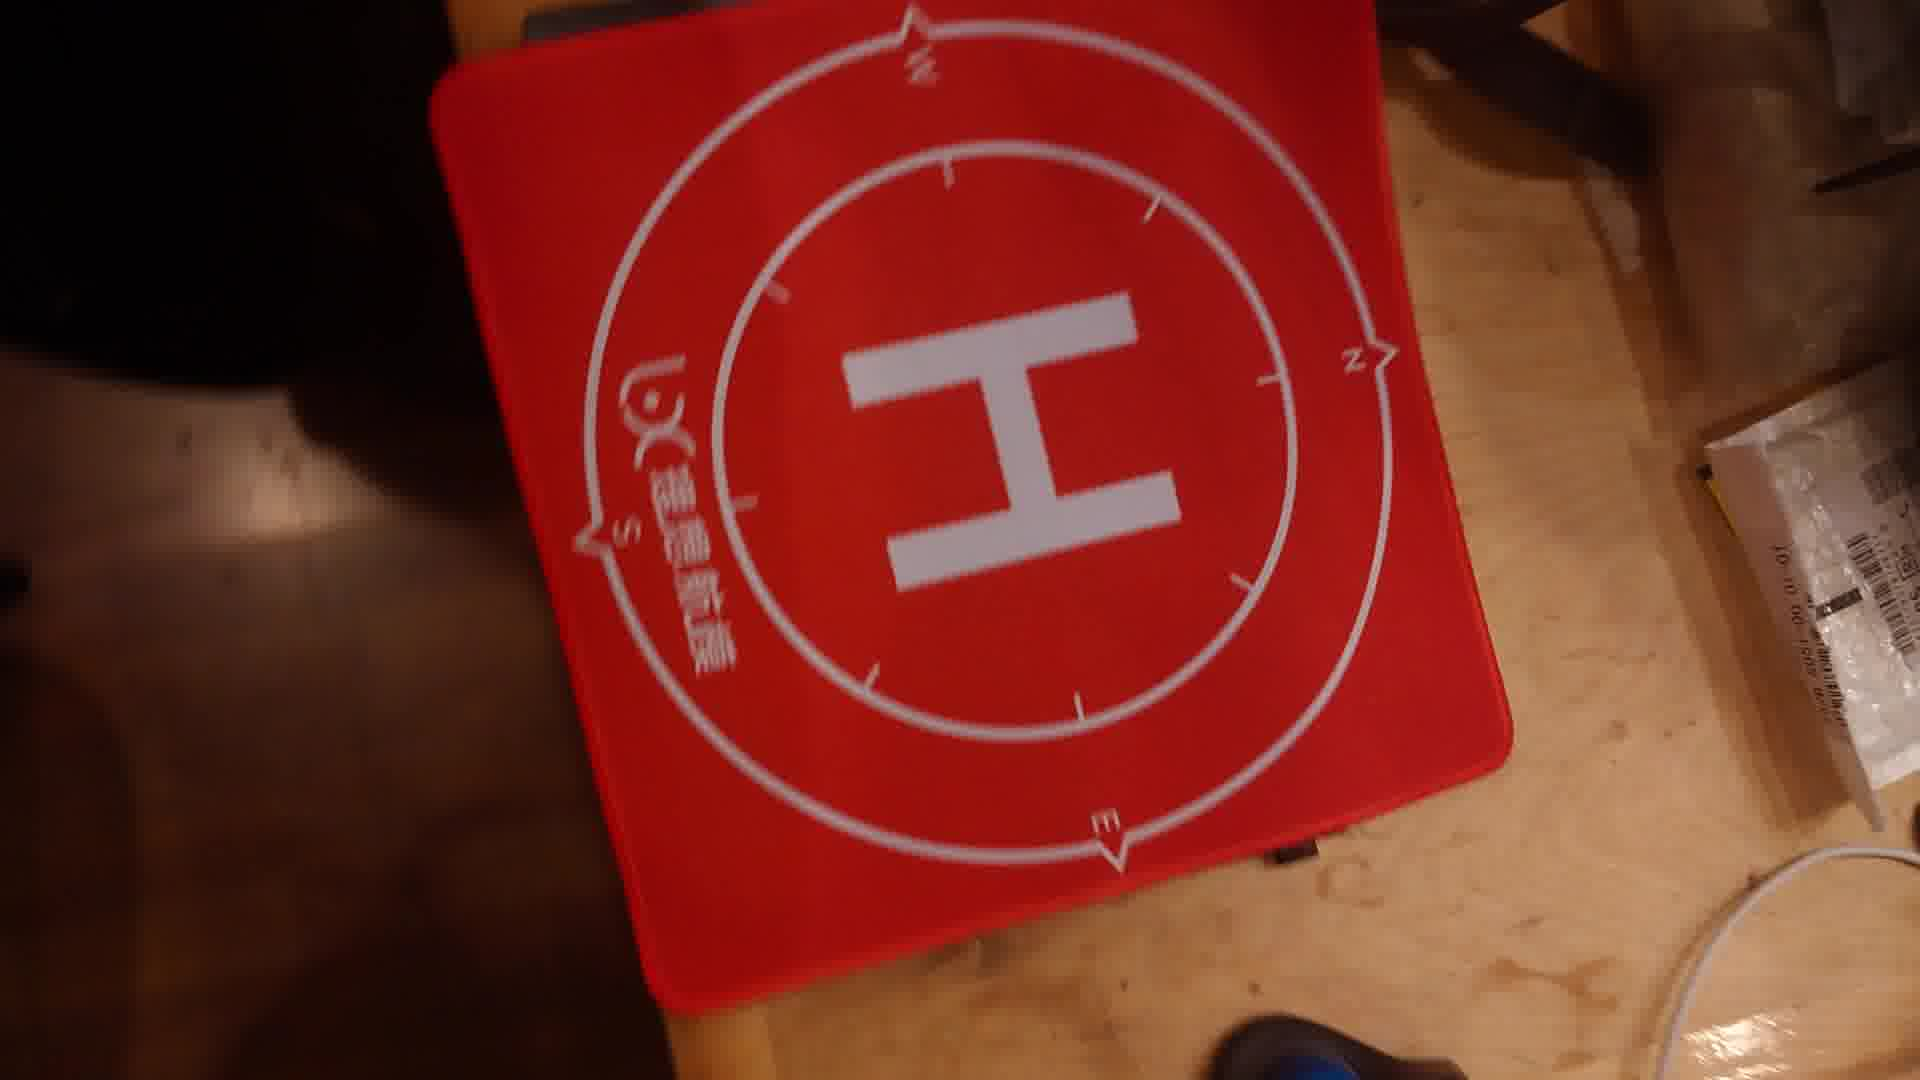H: (844, 291, 1185, 595)
